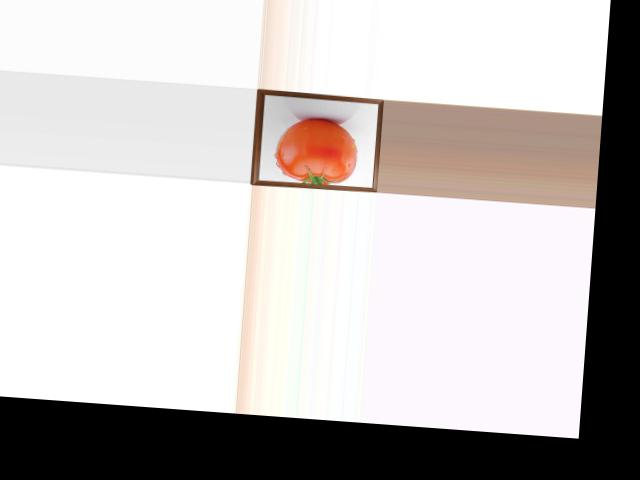tomato: (273, 115, 359, 187)
